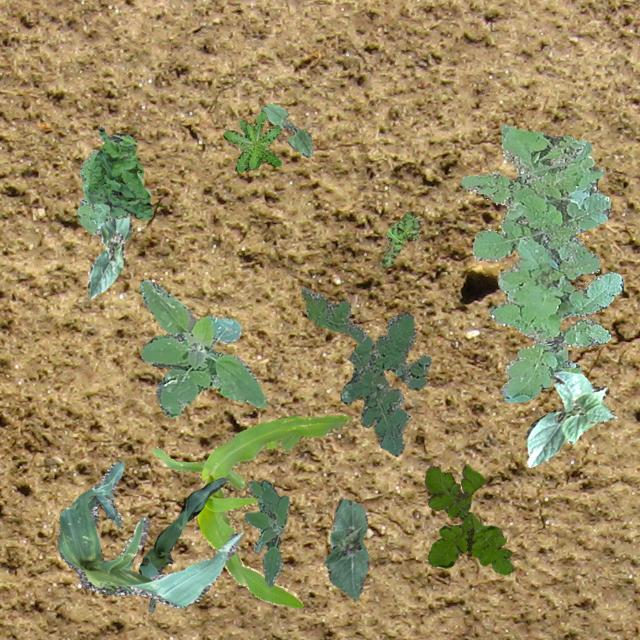crop: (150, 414, 354, 606), (56, 460, 242, 608), (137, 477, 225, 612), (524, 368, 616, 466), (322, 498, 368, 598), (86, 215, 130, 298), (260, 102, 312, 156)
weed: (458, 124, 622, 402), (300, 286, 430, 456), (138, 278, 266, 416), (424, 464, 514, 574), (86, 126, 152, 220), (244, 480, 288, 586), (76, 148, 130, 234), (222, 110, 280, 172), (378, 210, 421, 268)
